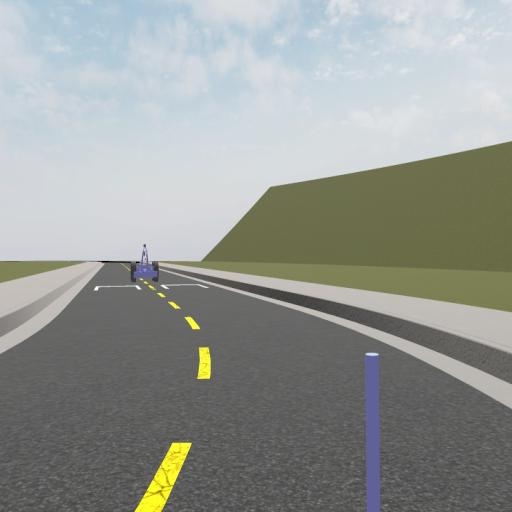ERP-42: (132, 242, 160, 284)
